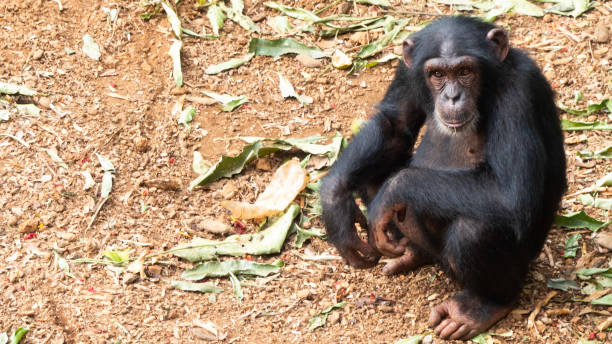chimpanzee: (375, 10, 517, 127)
